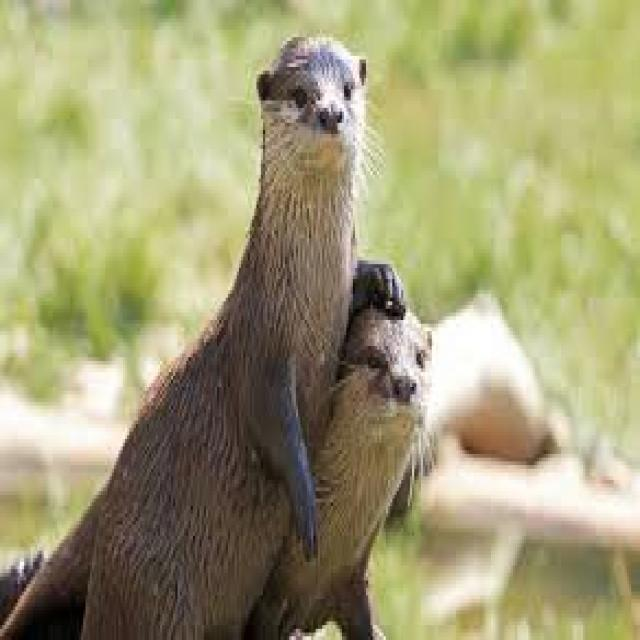otter: (0, 37, 403, 636), (250, 309, 430, 636)
